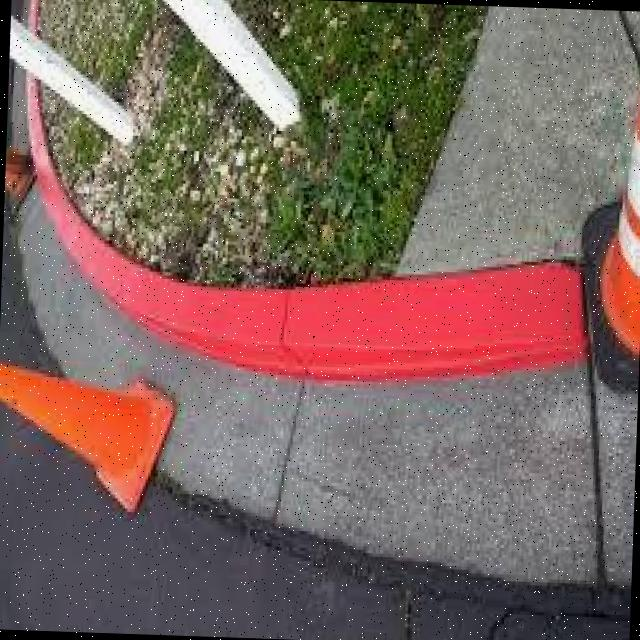curb: (277, 252, 581, 399), (80, 237, 288, 373), (15, 97, 102, 275)
